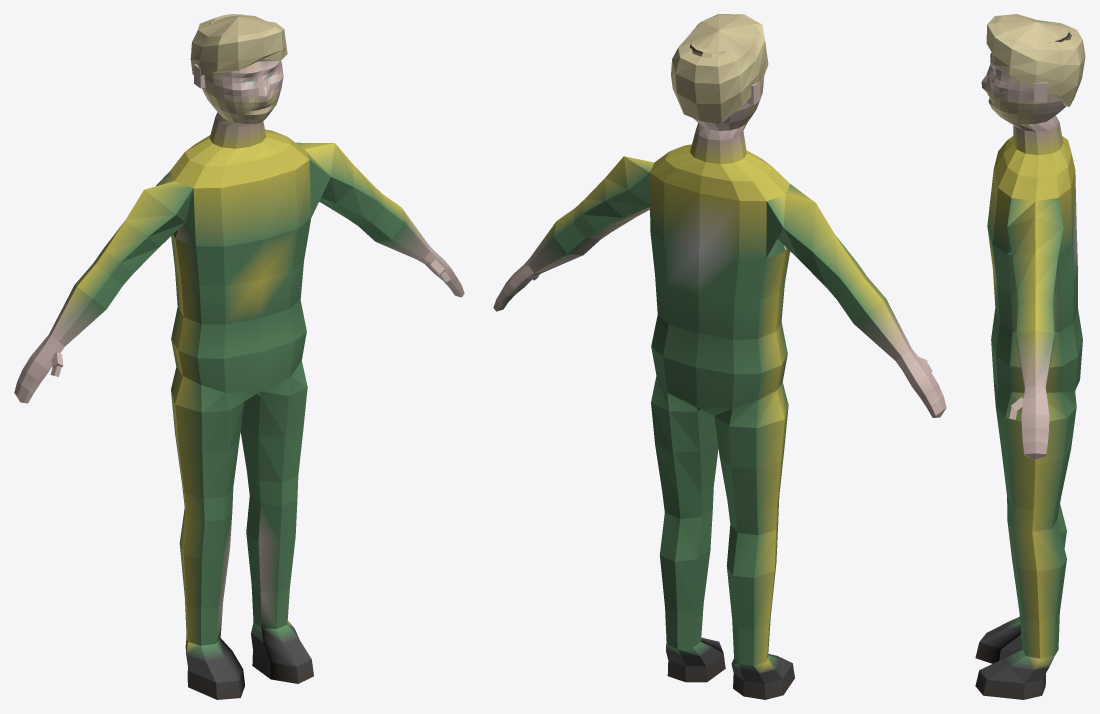
File: char__pessoa__piloto_h03.glb
The picture shows the model from 3 angles, left to right: view 1: azimuth 30°, elevation 25°; view 2: azimuth 150°, elevation 25°; view 3: azimuth 270°, elevation 25°; orthographic projection.
Parts seen in each view (by area): view 1: char__pessoa__piloto_h03; view 2: char__pessoa__piloto_h03; view 3: char__pessoa__piloto_h03.
Part boxes in pixels (x1=…): char__pessoa__piloto_h03: x1=14, y1=14, x2=464, y2=699; char__pessoa__piloto_h03: x1=493, y1=14, x2=946, y2=699; char__pessoa__piloto_h03: x1=975, y1=14, x2=1085, y2=699.
Bounding box in the file's own units: 1.25 × 1.77 × 0.2705.
